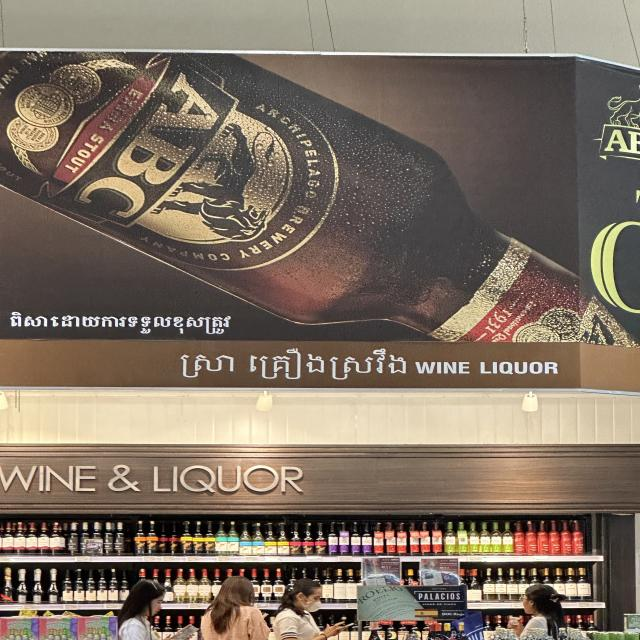1: (165, 344, 414, 383)
Yolov11_80vkh: (1, 306, 236, 337)
